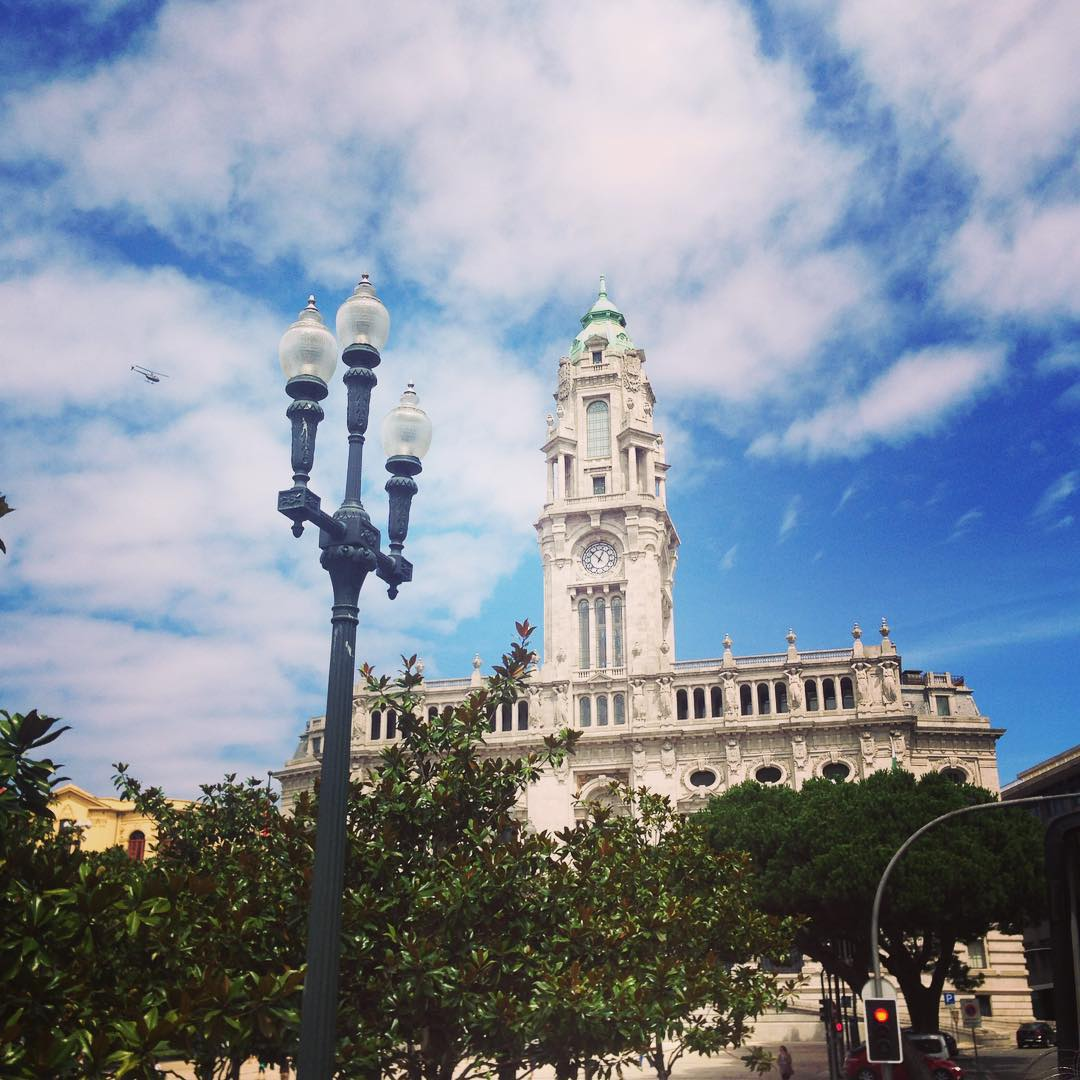camara: (264, 268, 1037, 1022)
